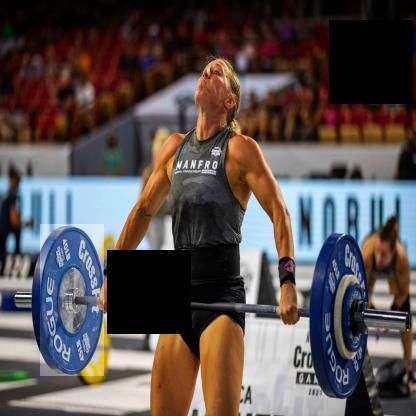barbell: (41, 225, 105, 377), (320, 233, 371, 401)
